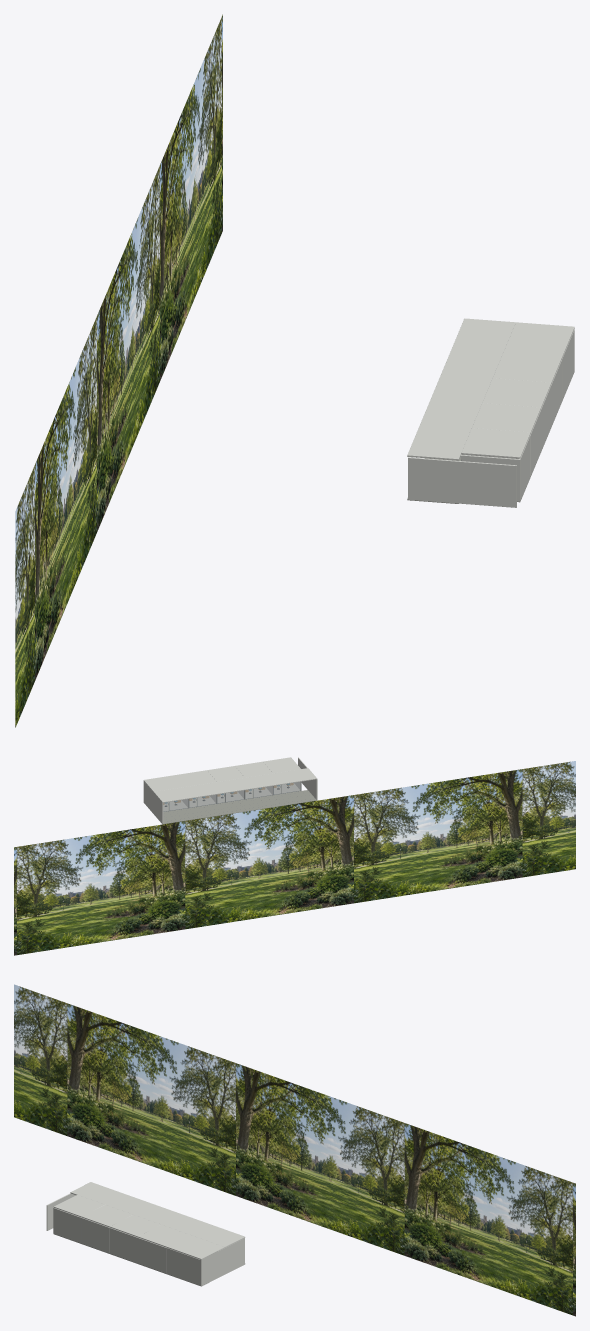
File: lab-environment.glb
3 views of the same model, one above another, from view 1: azimuth 30°, elevation 25°; view 2: azimuth 150°, elevation 25°; view 3: azimuth 270°, elevation 25° (orthographic). The views are drawn at different scales.
Parts seen in each view (by area): view 1: Distant campus buildings and realistic trees - exterior back, Campus acoustic ceiling, Campus end wall, Campus lab ceiling.004, Campus lab ceiling, Campus lab ceiling.002, Campus lab ceiling.001, Campus lab ceiling.003; view 2: Distant campus buildings and realistic trees - exterior back, Campus acoustic ceiling, Campus continuous corridor floor, Campus lab ceiling.004, Campus end wall.001, Campus lab ceiling, Campus lab ceiling.001, Campus lab ceiling.002, Campus lab ceiling.003, Campus end wall; view 3: Distant campus buildings and realistic trees - exterior back, Campus acoustic ceiling, Campus end wall.001, Campus lab back wall.004, Campus lab ceiling.004, Campus lab back wall, Campus lab back wall.001, Campus lab back wall.003, Campus lab back wall.002, Campus lab ceiling, Campus lab ceiling.001, Campus lab ceiling.002 (+1 smaller).
Boxes of the visible parts, <box> form: Distant campus buildings and realistic trees - exterior back: <box>15,14,222,727</box>; Campus acoustic ceiling: <box>407,318,515,460</box>; Campus end wall: <box>408,457,516,507</box>; Campus lab ceiling.004: <box>503,322,574,358</box>; Campus lab ceiling: <box>461,428,530,458</box>; Campus lab ceiling.002: <box>482,378,551,408</box>; Campus lab ceiling.001: <box>472,403,540,433</box>; Campus lab ceiling.003: <box>493,353,561,383</box>; Distant campus buildings and realistic trees - exterior back: <box>14,761,575,955</box>; Campus acoustic ceiling: <box>154,768,317,802</box>; Campus continuous corridor floor: <box>162,790,316,824</box>; Campus lab ceiling.004: <box>143,774,188,791</box>; Campus end wall.001: <box>143,781,163,823</box>; Campus lab ceiling: <box>263,757,300,773</box>; Campus lab ceiling.001: <box>235,761,272,777</box>; Campus lab ceiling.002: <box>207,766,244,781</box>; Campus lab ceiling.003: <box>179,770,216,786</box>; Campus end wall: <box>298,757,317,800</box>; Distant campus buildings and realistic trees - exterior back: <box>14,984,575,1316</box>; Campus acoustic ceiling: <box>70,1182,245,1247</box>; Campus end wall.001: <box>200,1238,244,1286</box>; Campus lab back wall.004: <box>166,1248,200,1285</box>; Campus lab ceiling.004: <box>166,1234,224,1259</box>; Campus lab back wall: <box>53,1208,81,1243</box>; Campus lab back wall.001: <box>81,1218,109,1253</box>; Campus lab back wall.003: <box>138,1237,165,1273</box>; Campus lab back wall.002: <box>110,1228,137,1263</box>; Campus lab ceiling: <box>53,1195,104,1217</box>; Campus lab ceiling.001: <box>82,1205,132,1227</box>; Campus lab ceiling.002: <box>110,1215,160,1237</box>.
Size of the model in its own units: 55 by 16 by 61.28.
10 materials, 1 textured.
